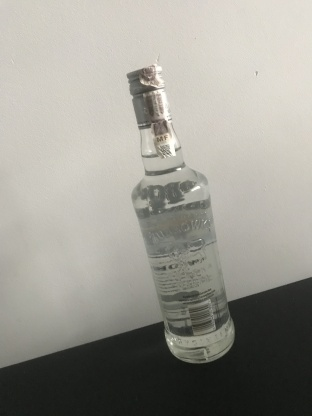nakretka: (125, 60, 173, 131)
